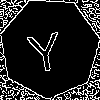Y: (24, 23, 65, 74)
